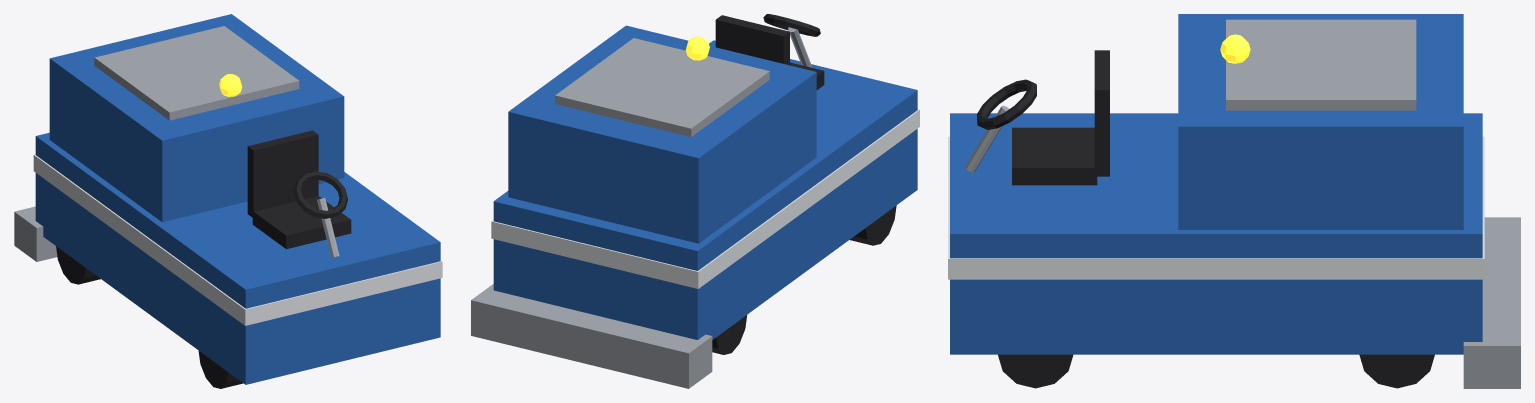
Rendered from ice_resurfacer.glb.
3 views of the same model, side by side, from view 1: azimuth 30°, elevation 25°; view 2: azimuth 150°, elevation 25°; view 3: azimuth 270°, elevation 25° (orthographic). The views are drawn at different scales.
Parts seen in each view (by area): view 1: body_resurfacer_blue, tank_resurfacer_blue, lid_resurfacer_steel, stripe_resurfacer_white, seat_back_resurfacer_dark, seat_resurfacer_dark, scraper_resurfacer_steel, tire_resurfacer_dark, wheel_resurfacer_dark, wheel_post_resurfacer_steel, light_resurfacer_light; view 2: body_resurfacer_blue, tank_resurfacer_blue, lid_resurfacer_steel, scraper_resurfacer_steel, stripe_resurfacer_white, seat_back_resurfacer_dark, tire_resurfacer_dark, wheel_resurfacer_dark, light_resurfacer_light, wheel_post_resurfacer_steel; view 3: body_resurfacer_blue, tank_resurfacer_blue, lid_resurfacer_steel, stripe_resurfacer_white, scraper_resurfacer_steel, seat_resurfacer_dark, tire_resurfacer_dark, seat_back_resurfacer_dark, wheel_resurfacer_dark, light_resurfacer_light, wheel_post_resurfacer_steel.
Boxes of the visible parts, <box> form: body_resurfacer_blue: <box>35,132,440,384</box>; tank_resurfacer_blue: <box>49,14,344,222</box>; lid_resurfacer_steel: <box>94,26,299,120</box>; stripe_resurfacer_white: <box>33,154,442,325</box>; seat_back_resurfacer_dark: <box>247,130,318,217</box>; seat_resurfacer_dark: <box>252,196,351,249</box>; scraper_resurfacer_steel: <box>14,206,57,261</box>; tire_resurfacer_dark: <box>56,246,243,388</box>; wheel_resurfacer_dark: <box>293,171,347,218</box>; wheel_post_resurfacer_steel: <box>317,198,339,257</box>; light_resurfacer_light: <box>219,74,242,96</box>; body_resurfacer_blue: <box>493,40,917,339</box>; tank_resurfacer_blue: <box>508,25,816,243</box>; lid_resurfacer_steel: <box>555,38,769,136</box>; scraper_resurfacer_steel: <box>471,284,712,388</box>; stripe_resurfacer_white: <box>491,109,919,288</box>; seat_back_resurfacer_dark: <box>715,15,789,65</box>; tire_resurfacer_dark: <box>712,205,896,354</box>; wheel_resurfacer_dark: <box>763,14,820,36</box>; light_resurfacer_light: <box>685,36,709,60</box>; wheel_post_resurfacer_steel: <box>788,27,811,67</box>; body_resurfacer_blue: <box>950,113,1482,354</box>; tank_resurfacer_blue: <box>1178,14,1463,229</box>; lid_resurfacer_steel: <box>1226,19,1416,110</box>; stripe_resurfacer_white: <box>948,136,1484,279</box>; scraper_resurfacer_steel: <box>1463,217,1520,388</box>; seat_resurfacer_dark: <box>1012,127,1097,185</box>; tire_resurfacer_dark: <box>998,354,1434,388</box>; seat_back_resurfacer_dark: <box>1094,50,1109,176</box>; wheel_resurfacer_dark: <box>977,79,1036,129</box>; light_resurfacer_light: <box>1220,34,1250,63</box>; wheel_post_resurfacer_steel: <box>965,105,1009,172</box>.
Size of the model in its own units: 1.6 by 1.7 by 3.01.
